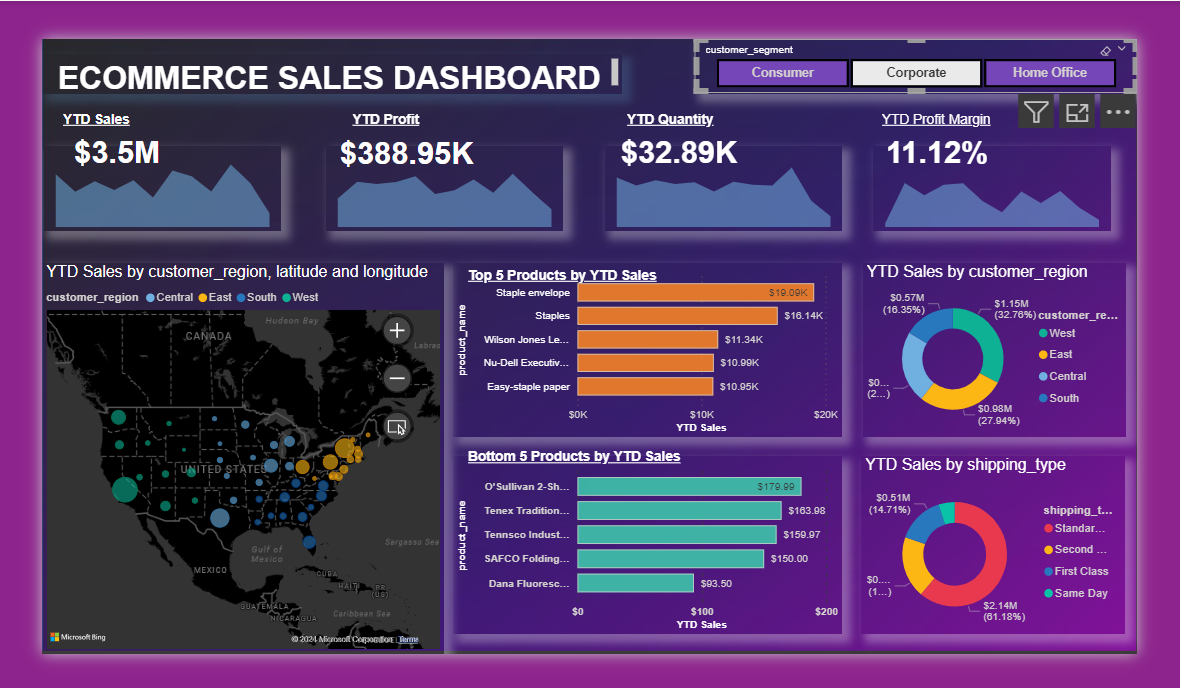

The dashboard page shown, as its layout file describes it:
{"tool":"powerbi","page":{"name":"Page 1","canvas":[1280,720],"ordinal":0},"visuals":[{"type":"textbox","box":[0,17,678.7,46.8],"z":0},{"type":"card","fields":{"Values":["ecommerce_data.YTD Sales"]},"box":[0,102.1,174.5,57.4],"z":1000},{"type":"areaChart","fields":{"Category":["Calender.Month"],"Y":["Sum(ecommerce_data.sales_per_order)"]},"box":[1.6,125,278.2,100],"z":2000},{"type":"map","fields":{"Y":["us_state_long_lat_codes.latitude"],"X":["us_state_long_lat_codes.longitude"],"Size":["ecommerce_data.YTD Sales"],"Series":["ecommerce_data.customer_region"]},"box":[0,261.7,470.2,457.4],"z":3000},{"type":"barChart","fields":{"Category":["ecommerce_data.product_name"],"Y":["ecommerce_data.YTD Sales"]},"box":[480.9,261.7,455.3,204.3],"z":4000},{"type":"barChart","fields":{"Category":["ecommerce_data.product_name"],"Y":["ecommerce_data.YTD Sales"]},"box":[480.9,487.2,455.3,208.5],"z":5000},{"type":"donutChart","fields":{"Y":["ecommerce_data.YTD Sales"],"Category":["ecommerce_data.customer_region"]},"box":[959.6,261.7,308.5,204.3],"z":6000},{"type":"donutChart","fields":{"Y":["ecommerce_data.YTD Sales"],"Category":["ecommerce_data.shipping_type"]},"box":[957.4,487.2,308.5,208.5],"z":7000},{"type":"slicer","fields":{"Values":["ecommerce_data.customer_segment"]},"box":[763.8,0,517,63.8],"z":8000},{"type":"card","fields":{"Values":["Calender.YTD Profit"]},"box":[339.2,103.2,175.1,56.3],"z":9000},{"type":"areaChart","fields":{"Category":["Calender.Month"],"Y":["Sum(ecommerce_data.profit_per_order)"]},"box":[331.4,125,278.2,100],"z":10000},{"type":"areaChart","fields":{"Category":["Calender.Month"],"Y":["Sum(ecommerce_data.order_quantity)"]},"box":[658,125,278.2,100],"z":11000},{"type":"areaChart","fields":{"Category":["Calender.Month"],"Y":["Calender.Profit Margin"]},"box":[972.2,125,278.2,100],"z":12000},{"type":"textbox","box":[19.1,78.7,121.3,34],"z":13000},{"type":"textbox","box":[357.9,79.7,156.3,46.9],"z":14000},{"type":"card","fields":{"Values":["ecommerce_data.YTD Qty"]},"box":[657.9,101.8,173.7,57.9],"z":15000},{"type":"textbox","box":[678.3,78.1,164.1,34.4],"z":16000},{"type":"textbox","box":[976.6,78.7,168.1,34],"z":17000},{"type":"card","fields":{"Values":["Calender.YTD Profit Margin"]},"box":[959.6,101.8,173.7,57.9],"z":18000},{"type":"textbox","box":[493.6,261.7,274.5,34],"z":19000},{"type":"textbox","box":[493.6,474.5,293.6,34],"z":20000}]}

Visuals, with their boxes on the page's 1280x720 design canvas (x1, y1, x2, y2). These are canvas units, not pixel positions in the 1180x688 screenshot, which may show the page scaled, cropped or inside an application window:
textbox: 0, 17, 679, 64
card - ecommerce_data.YTD Sales: 0, 102, 174, 160
areaChart - Calender.Month x Sum(ecommerce_data.sales_per_order): 2, 125, 280, 225
map - us_state_long_lat_codes.latitude x us_state_long_lat_codes.longitude: 0, 262, 470, 719
barChart - ecommerce_data.product_name x ecommerce_data.YTD Sales: 481, 262, 936, 466
barChart - ecommerce_data.product_name x ecommerce_data.YTD Sales: 481, 487, 936, 696
donutChart - ecommerce_data.YTD Sales x ecommerce_data.customer_region: 960, 262, 1268, 466
donutChart - ecommerce_data.YTD Sales x ecommerce_data.shipping_type: 957, 487, 1266, 696
slicer - ecommerce_data.customer_segment: 764, 0, 1281, 64
card - Calender.YTD Profit: 339, 103, 514, 160
areaChart - Calender.Month x Sum(ecommerce_data.profit_per_order): 331, 125, 610, 225
areaChart - Calender.Month x Sum(ecommerce_data.order_quantity): 658, 125, 936, 225
areaChart - Calender.Month x Calender.Profit Margin: 972, 125, 1250, 225
textbox: 19, 79, 140, 113
textbox: 358, 80, 514, 127
card - ecommerce_data.YTD Qty: 658, 102, 832, 160
textbox: 678, 78, 842, 112
textbox: 977, 79, 1145, 113
card - Calender.YTD Profit Margin: 960, 102, 1133, 160
textbox: 494, 262, 768, 296
textbox: 494, 474, 787, 508
